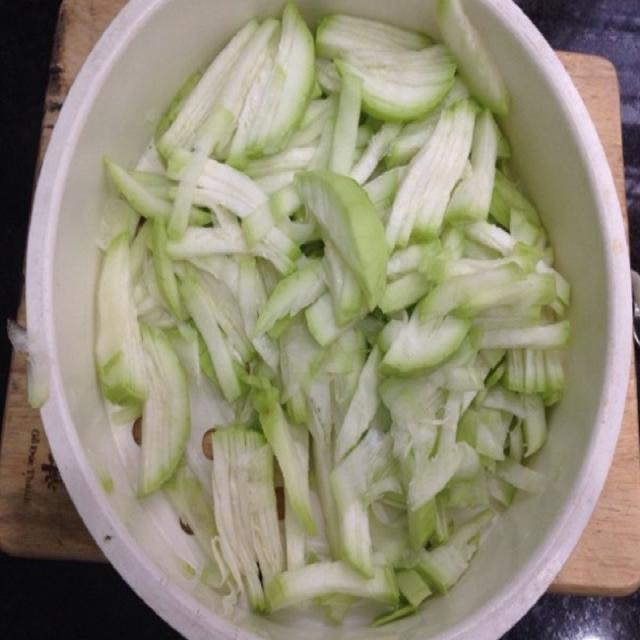canh bau: (95, 0, 572, 627)
